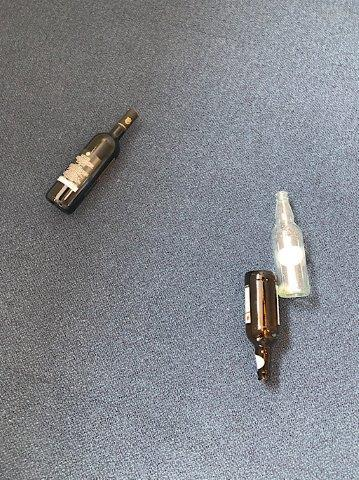botolkaca: (45, 108, 138, 217), (274, 192, 311, 300), (244, 272, 280, 380)
